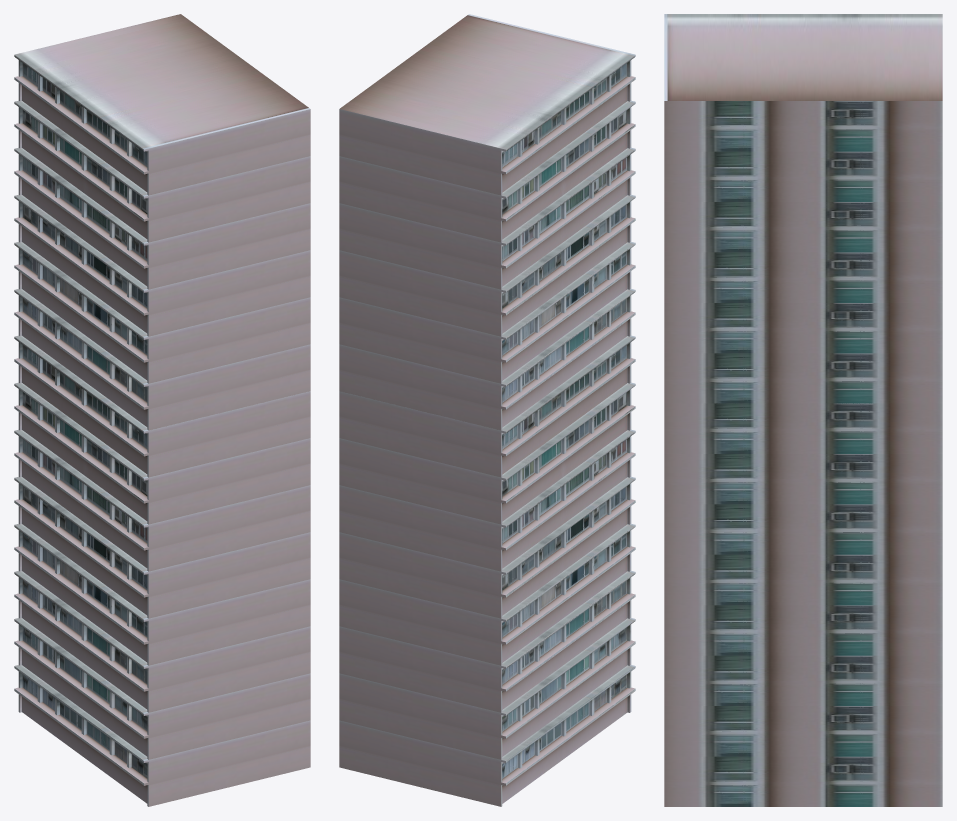
The model's file is hk_tower_abhayexe.glb.
The picture shows the model from 3 angles, left to right: view 1: azimuth 30°, elevation 25°; view 2: azimuth 150°, elevation 25°; view 3: azimuth 270°, elevation 25°; orthographic projection. The views are drawn at different scales.
Parts seen in each view (by area): view 1: Cube.046_336, Cube.103_331, Cube.097_325, Cube.098_326, Cube.101_329, Cube.102_330, Cube.104_332, Cube.045_335, Cube.047_337, Cube.048_338, Cube.100_328, Cube.043_333 (+2 smaller); view 2: Cube.046_336, Cube.097_325, Cube.098_326, Cube.048_338, Cube.102_330, Cube.103_331, Cube.045_335, Cube.047_337, Cube.100_328, Cube.101_329, Cube.043_333, Cube.104_332 (+2 smaller); view 3: Cube.046_336, Cube.097_325, Cube.098_326, Cube.099_327, Cube.100_328, Cube.101_329, Cube.102_330, Cube.103_331, Cube.104_332, Cube.043_333, Cube.044_334, Cube.045_335 (+2 smaller).
Boxes of the visible parts, left/top/right/bottom form: Cube.046_336: left=14, top=14, right=310, bottom=195; Cube.103_331: left=14, top=618, right=310, bottom=759; Cube.097_325: left=14, top=476, right=310, bottom=618; Cube.098_326: left=14, top=429, right=310, bottom=571; Cube.101_329: left=14, top=571, right=310, bottom=712; Cube.102_330: left=14, top=523, right=310, bottom=665; Cube.104_332: left=14, top=665, right=310, bottom=806; Cube.045_335: left=14, top=100, right=310, bottom=242; Cube.047_337: left=14, top=147, right=310, bottom=289; Cube.048_338: left=14, top=194, right=310, bottom=336; Cube.100_328: left=14, top=382, right=310, bottom=524; Cube.043_333: left=14, top=242, right=310, bottom=383; Cube.046_336: left=339, top=14, right=635, bottom=195; Cube.097_325: left=339, top=476, right=635, bottom=618; Cube.098_326: left=339, top=429, right=635, bottom=571; Cube.048_338: left=339, top=194, right=635, bottom=336; Cube.102_330: left=339, top=523, right=635, bottom=665; Cube.103_331: left=339, top=618, right=635, bottom=759; Cube.045_335: left=339, top=100, right=635, bottom=242; Cube.047_337: left=339, top=147, right=635, bottom=289; Cube.100_328: left=339, top=382, right=635, bottom=524; Cube.101_329: left=339, top=571, right=635, bottom=712; Cube.043_333: left=339, top=242, right=635, bottom=383; Cube.104_332: left=339, top=665, right=635, bottom=806; Cube.046_336: left=664, top=14, right=942, bottom=151; Cube.097_325: left=664, top=554, right=942, bottom=605; Cube.098_326: left=664, top=504, right=942, bottom=554; Cube.099_327: left=664, top=403, right=942, bottom=453; Cube.100_328: left=664, top=454, right=942, bottom=504; Cube.101_329: left=664, top=655, right=942, bottom=705; Cube.102_330: left=664, top=605, right=942, bottom=655; Cube.103_331: left=664, top=706, right=942, bottom=756; Cube.104_332: left=664, top=756, right=942, bottom=806; Cube.043_333: left=664, top=303, right=942, bottom=353; Cube.044_334: left=664, top=353, right=942, bottom=403; Cube.045_335: left=664, top=151, right=942, bottom=201.
Bounding box in the file's own units: 14.22 × 53.71 × 19.19.
2 materials, 2 textured.
